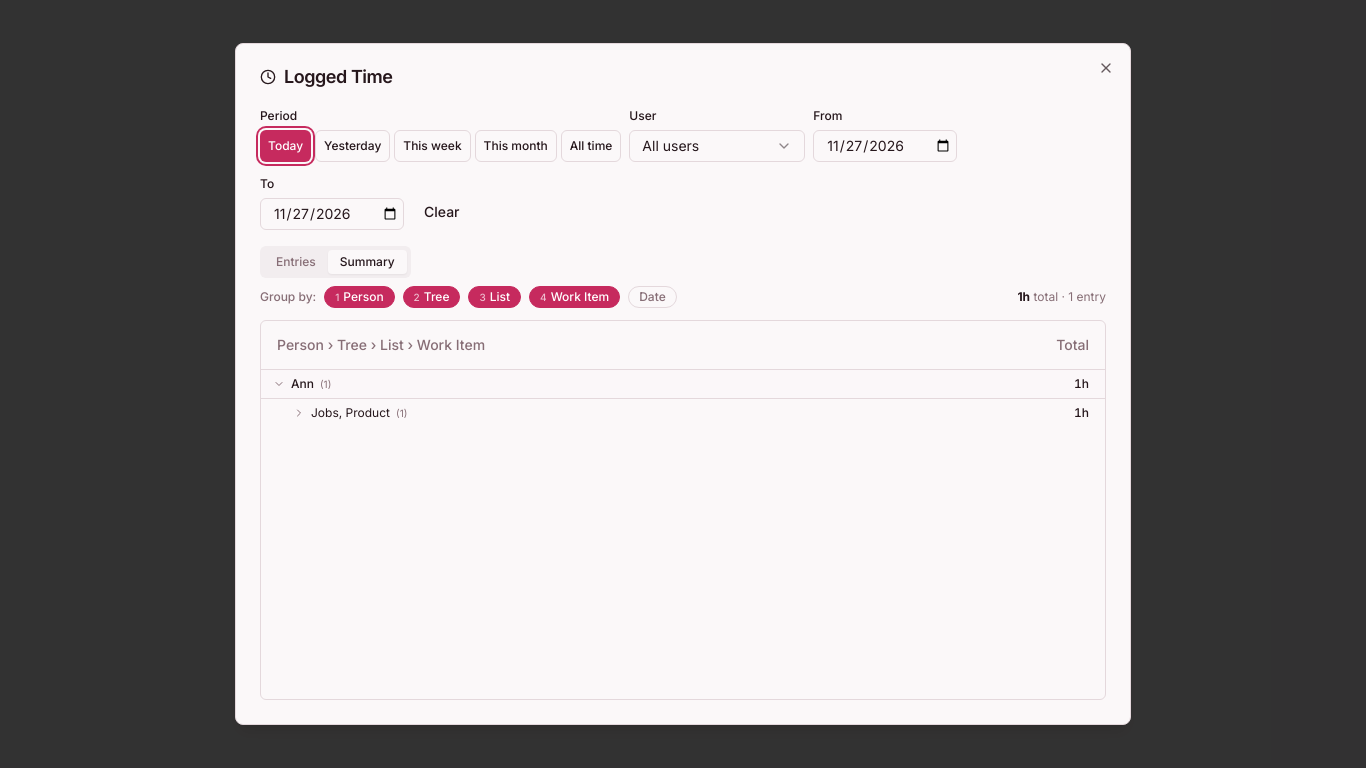
Test: an item in more than one list › is grouped under all of them by name, and its time counted once
Click the text "Jobs, Product" at (350, 412), box [311,404,390,420]
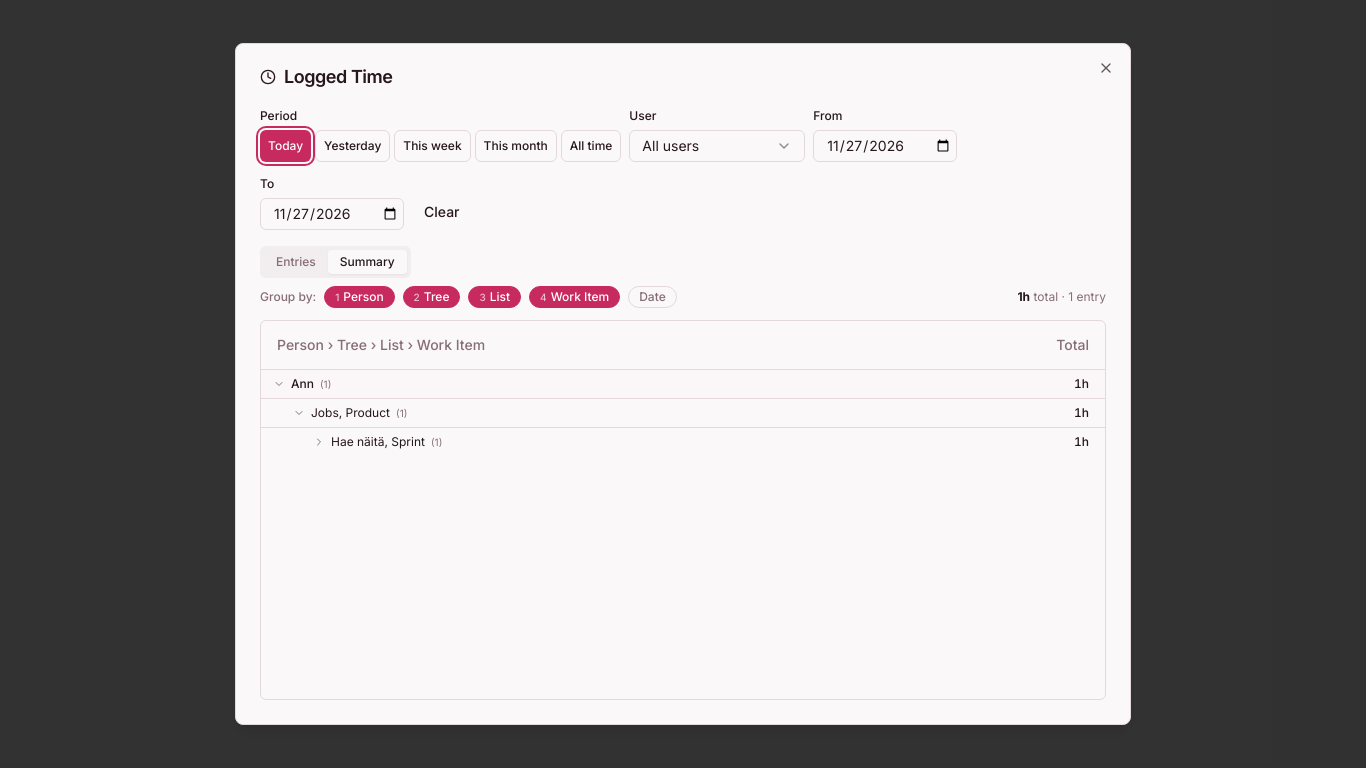
Check: the text "Hae näitä, Sprint" is shown, box [331,434,425,450]
